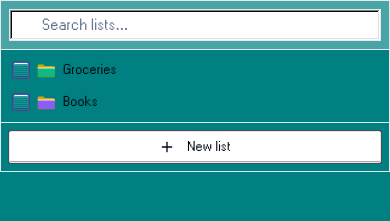
Test: ListPicker › multi-selects more than one list
Click the text "Groceries".
click(90, 70)  # box [63,60,117,80]
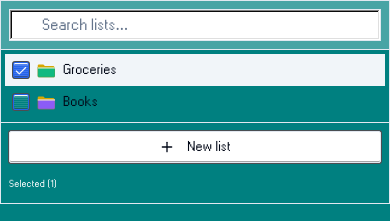
Click the text "Books".
click(80, 102)  # box [63,92,98,112]
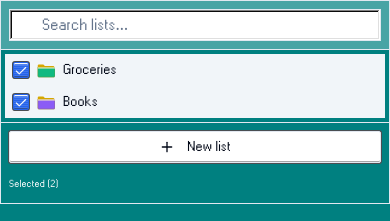
Check: the text "Selected (2)" is shown, box [9,179,58,189]
